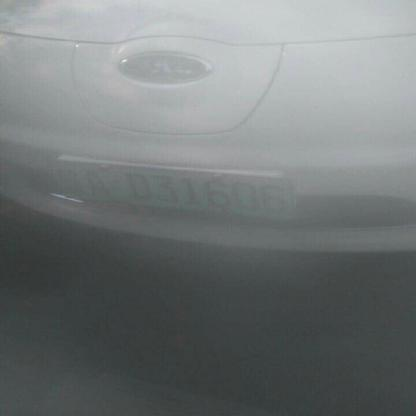lp: (56, 159, 61, 219)
